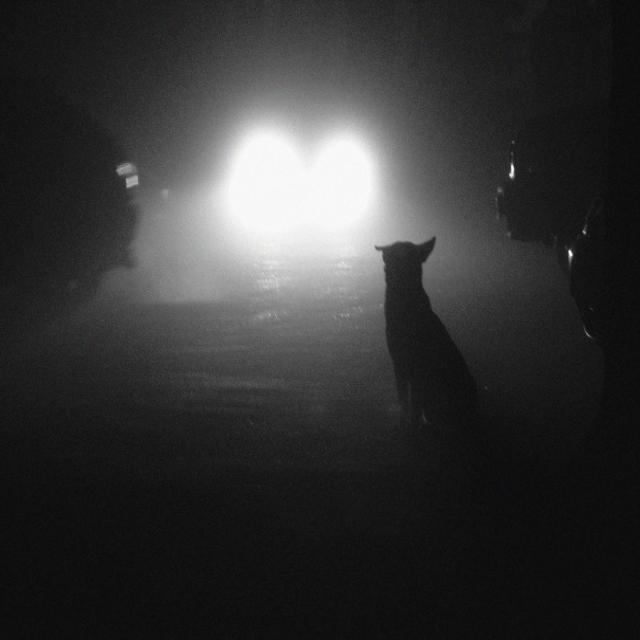Dog: (333, 227, 550, 497)
